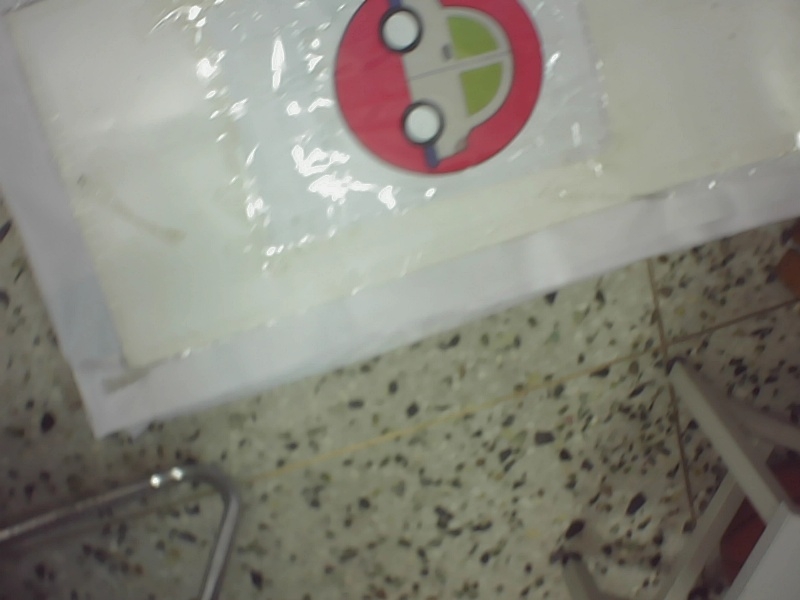areaC: (305, 1, 556, 184)
